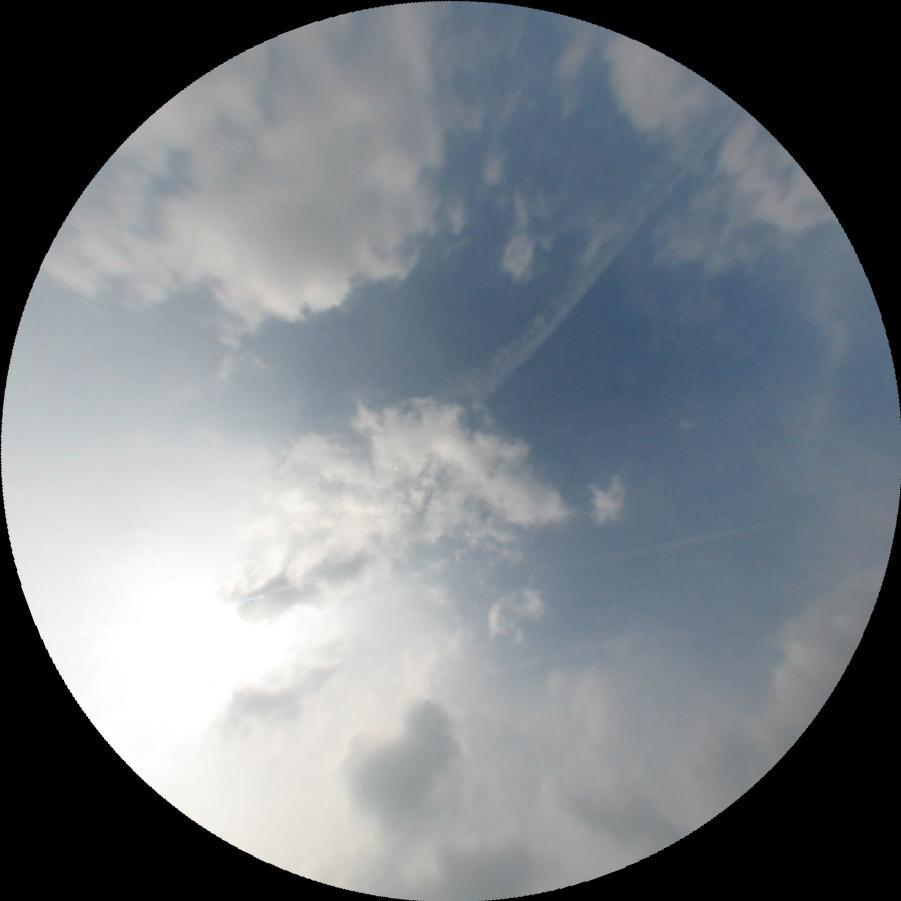contrail veryold: (443, 114, 727, 422)
sun: (17, 476, 355, 811)
